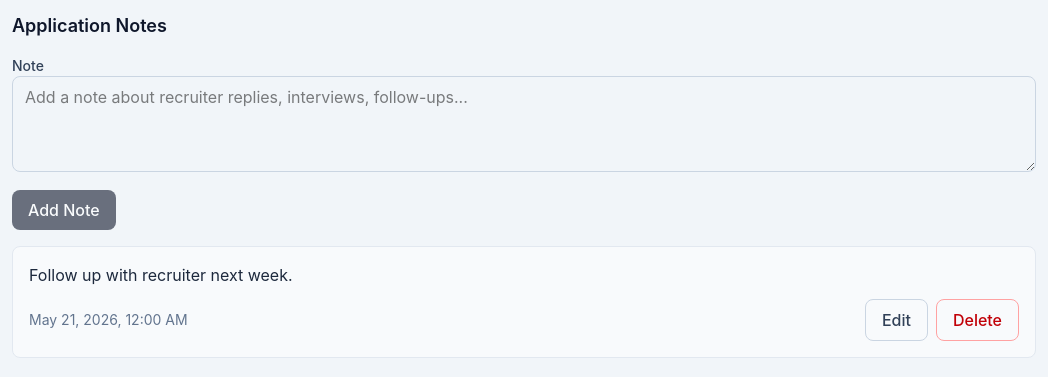
Test: ApplicationNotesSection › click Edit fills the form with note content
Expected: the text "Follow up with recruiter next week." is shown, x1=29 y1=265 x2=292 y2=285
Step 1. Click the button "Edit" → (896,320), box x1=865 y1=299 x2=928 y2=341
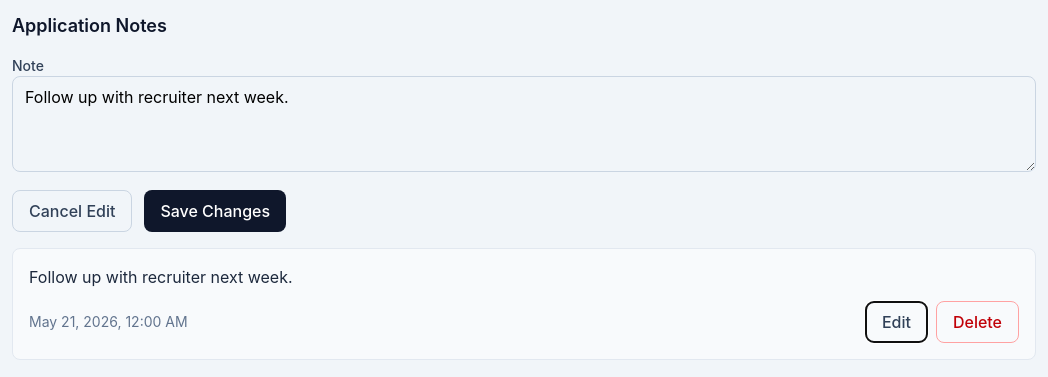
Now the text box labelled "Note" holds "Follow up with recruiter next week.", box x1=12 y1=76 x2=1036 y2=172
Now the button "Save Changes" is shown, box x1=144 y1=190 x2=286 y2=232
Now the button "Cancel Edit" is shown, box x1=12 y1=190 x2=132 y2=232
